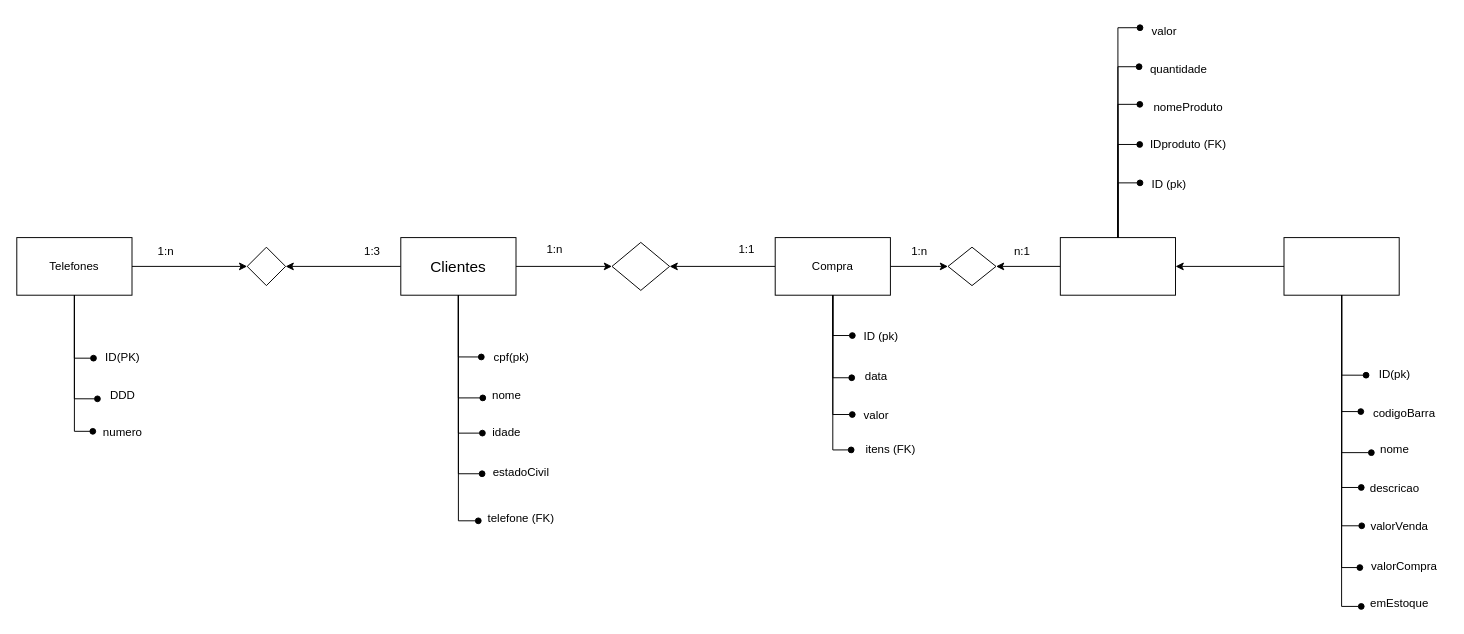
Some shapes in this 1464 by 634 pixel diagram are drawn without their labels. Here are the shapes that lost their labels. From the top down, the centre of each, then its label:
pixel 1117 266: Itens da Compra
pixel 1341 266: Produtos
